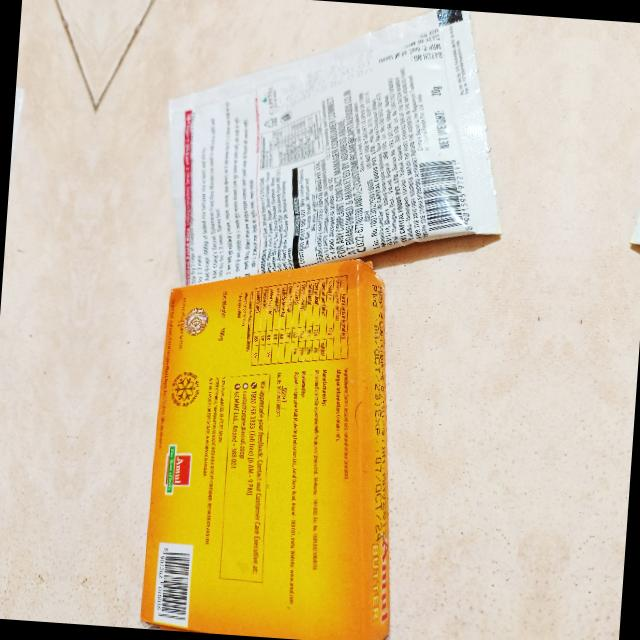Amul Butter: (130, 284, 411, 640)
Ching-s secret schezwan fried masala: (150, 0, 519, 302)
